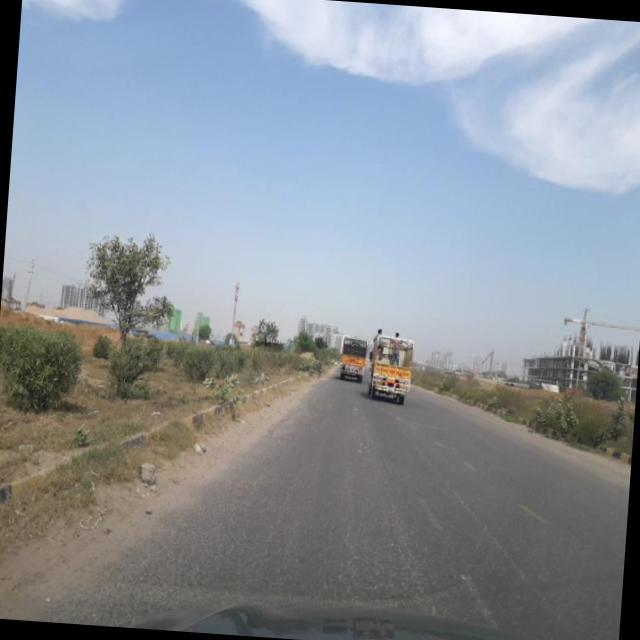crack: (133, 445, 606, 640)
pothole: (385, 426, 576, 629)
